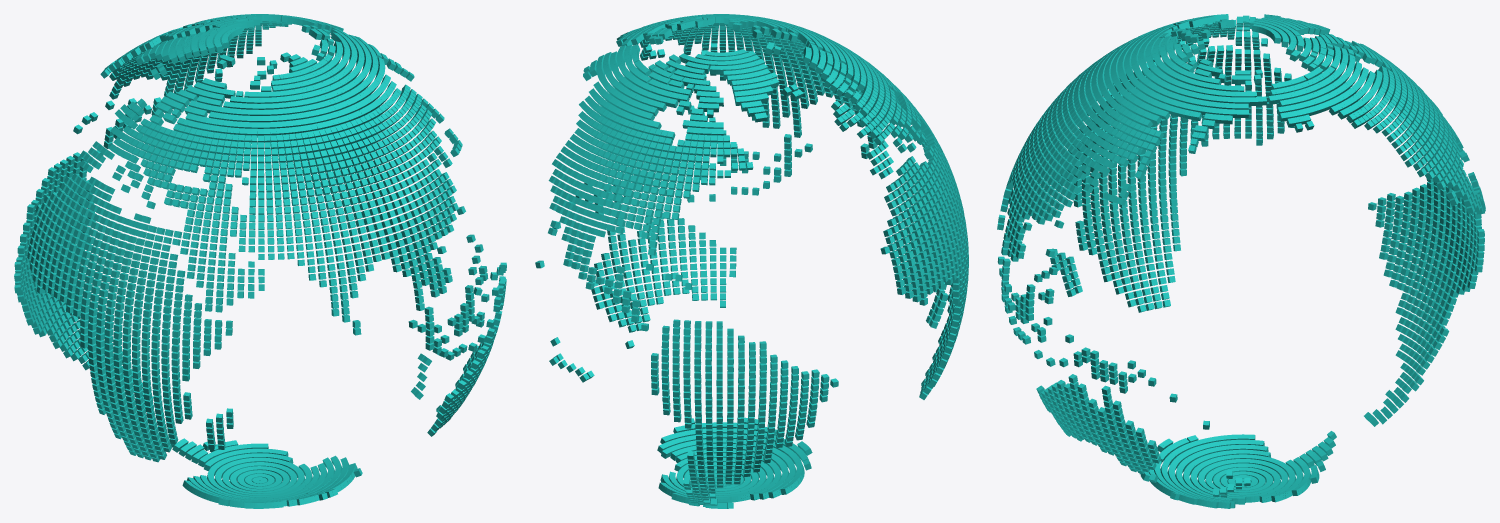
Rendered from globe.gltf.
3 renders of one model, left to right at view 1: azimuth 30°, elevation 25°; view 2: azimuth 150°, elevation 25°; view 3: azimuth 270°, elevation 25°, orthographic.
Parts seen in each view (by area): view 1: MASH1_ReproMesh; view 2: MASH1_ReproMesh; view 3: MASH1_ReproMesh.
Part boxes in pixels (x1,y1,x2,y2): MASH1_ReproMesh: (14,14,506,508); MASH1_ReproMesh: (535,14,968,508); MASH1_ReproMesh: (997,14,1485,508).
Bounding box in the file's own units: 78.8 × 80.66 × 79.65.
